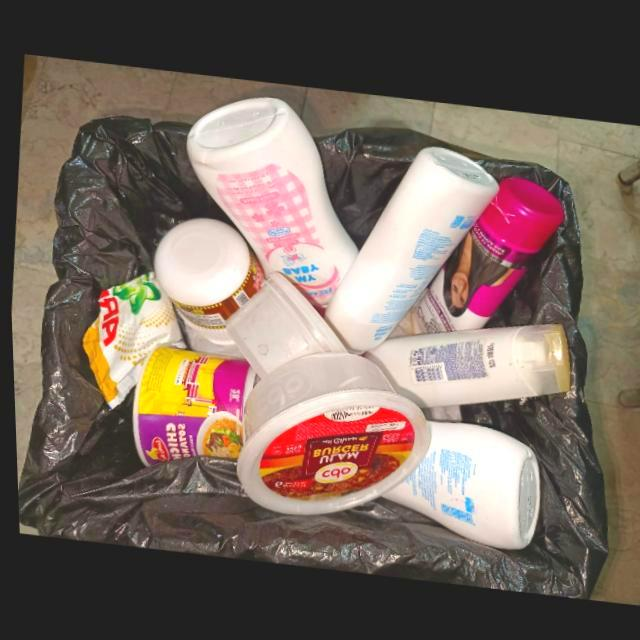plastic_bottle: (185, 96, 357, 315), (320, 143, 498, 352), (413, 174, 563, 331), (377, 417, 536, 548), (356, 321, 569, 405)
plastic_container: (231, 350, 428, 515), (151, 216, 261, 356), (129, 343, 253, 466), (222, 270, 347, 377)
plastic_sachet: (79, 271, 183, 409)
